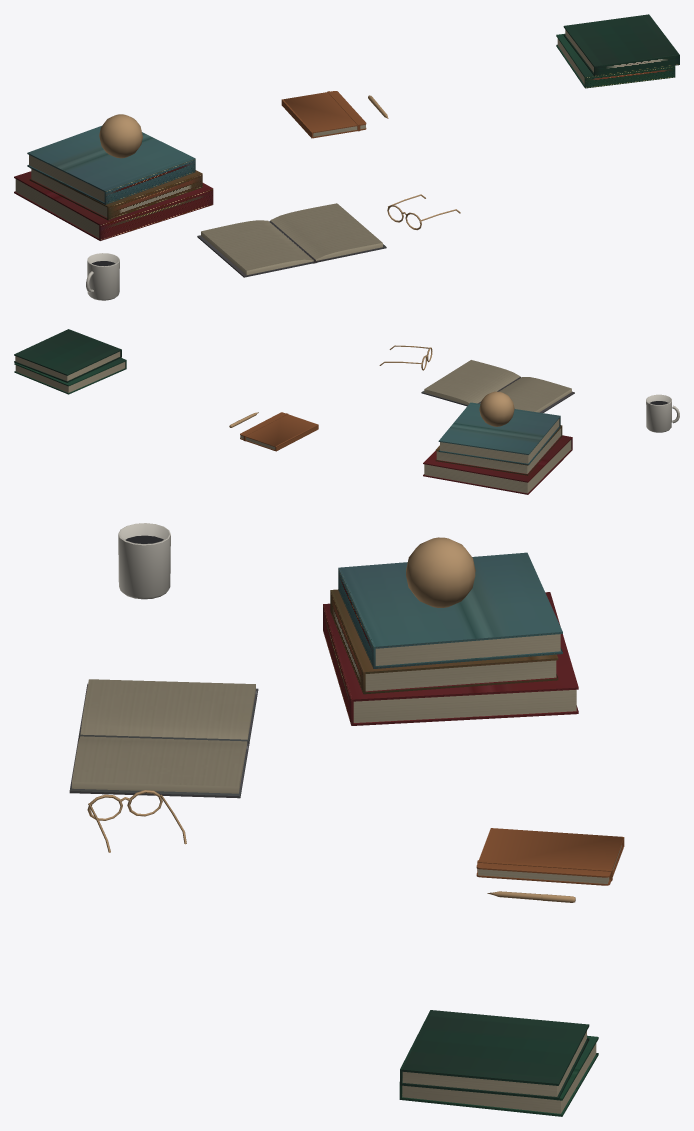
Rendered from decor_c_vignette_table.gltf.
3 renders of one model, top to bottom at view 1: azimuth 30°, elevation 25°; view 2: azimuth 150°, elevation 25°; view 3: azimuth 270°, elevation 25°, orthographic. The views are drawn at different scales.
Parts seen in each view (by area): view 1: DecorC_VignetteTable_Book04_Spines_NoCollide, DecorC_VignetteTable_Book03_Spines_NoCollide, DecorC_VignetteTable_Book06_Spines_NoCollide, DecorC_VignetteTable_Book01_Spines_NoCollide, DecorC_VignetteTable_Book02_Spines_NoCollide, DecorC_VignetteTable_Notebook01_Cognac_NoCollide, DecorC_VignetteTable_Book05_Spines_NoCollide, DecorC_VignetteTable_Ornament01_Bronze_NoCollide, DecorC_VignetteTable_Mug01_Glaze_NoCollide; view 2: DecorC_VignetteTable_Book03_Spines_NoCollide, DecorC_VignetteTable_Book04_Spines_NoCollide, DecorC_VignetteTable_Book06_Spines_NoCollide, DecorC_VignetteTable_Book01_Spines_NoCollide, DecorC_VignetteTable_Notebook01_Cognac_NoCollide, DecorC_VignetteTable_Book02_Spines_NoCollide, DecorC_VignetteTable_Book05_Spines_NoCollide, DecorC_VignetteTable_Ornament01_Bronze_NoCollide, DecorC_VignetteTable_Mug01_Glaze_NoCollide, DecorC_VignetteTable_Spectacles01_Bronze_NoCollide; view 3: DecorC_VignetteTable_Book04_Spines_NoCollide, DecorC_VignetteTable_Book03_Spines_NoCollide, DecorC_VignetteTable_Book06_Spines_NoCollide, DecorC_VignetteTable_Book01_Spines_NoCollide, DecorC_VignetteTable_Book02_Spines_NoCollide, DecorC_VignetteTable_Notebook01_Cognac_NoCollide, DecorC_VignetteTable_Ornament01_Bronze_NoCollide, DecorC_VignetteTable_Book05_Spines_NoCollide, DecorC_VignetteTable_Mug01_Glaze_NoCollide, DecorC_VignetteTable_Notebook01_Spines_NoCollide, DecorC_VignetteTable_Spectacles01_Bronze_NoCollide.
Boxes of the visible parts, x1=… form: DecorC_VignetteTable_Book04_Spines_NoCollide: x1=197, y1=203, x2=386, y2=277; DecorC_VignetteTable_Book03_Spines_NoCollide: x1=27, y1=126, x2=195, y2=204; DecorC_VignetteTable_Book06_Spines_NoCollide: x1=563, y1=14, x2=679, y2=76; DecorC_VignetteTable_Book01_Spines_NoCollide: x1=14, y1=171, x2=213, y2=240; DecorC_VignetteTable_Book02_Spines_NoCollide: x1=29, y1=168, x2=202, y2=220; DecorC_VignetteTable_Notebook01_Cognac_NoCollide: x1=281, y1=91, x2=366, y2=138; DecorC_VignetteTable_Book05_Spines_NoCollide: x1=556, y1=33, x2=675, y2=88; DecorC_VignetteTable_Ornament01_Bronze_NoCollide: x1=99, y1=114, x2=142, y2=158; DecorC_VignetteTable_Mug01_Glaze_NoCollide: x1=86, y1=253, x2=119, y2=300; DecorC_VignetteTable_Book03_Spines_NoCollide: x1=438, y1=402, x2=560, y2=465; DecorC_VignetteTable_Book04_Spines_NoCollide: x1=421, y1=360, x2=574, y2=412; DecorC_VignetteTable_Book06_Spines_NoCollide: x1=14, y1=329, x2=121, y2=382; DecorC_VignetteTable_Book01_Spines_NoCollide: x1=423, y1=435, x2=572, y2=494; DecorC_VignetteTable_Notebook01_Cognac_NoCollide: x1=240, y1=412, x2=318, y2=451; DecorC_VignetteTable_Book02_Spines_NoCollide: x1=435, y1=425, x2=562, y2=475; DecorC_VignetteTable_Book05_Spines_NoCollide: x1=14, y1=358, x2=126, y2=394; DecorC_VignetteTable_Ornament01_Bronze_NoCollide: x1=479, y1=391, x2=514, y2=426; DecorC_VignetteTable_Mug01_Glaze_NoCollide: x1=646, y1=394, x2=679, y2=432; DecorC_VignetteTable_Spectacles01_Bronze_NoCollide: x1=379, y1=345, x2=432, y2=370; DecorC_VignetteTable_Book04_Spines_NoCollide: x1=69, y1=679, x2=258, y2=798; DecorC_VignetteTable_Book03_Spines_NoCollide: x1=338, y1=552, x2=562, y2=668; DecorC_VignetteTable_Book06_Spines_NoCollide: x1=400, y1=1010, x2=589, y2=1099; DecorC_VignetteTable_Book01_Spines_NoCollide: x1=323, y1=592, x2=578, y2=725; DecorC_VignetteTable_Book02_Spines_NoCollide: x1=330, y1=589, x2=558, y2=694; DecorC_VignetteTable_Notebook01_Cognac_NoCollide: x1=476, y1=828, x2=624, y2=885; DecorC_VignetteTable_Ornament01_Bronze_NoCollide: x1=406, y1=537, x2=475, y2=607; DecorC_VignetteTable_Book05_Spines_NoCollide: x1=399, y1=1035, x2=598, y2=1116; DecorC_VignetteTable_Mug01_Glaze_NoCollide: x1=118, y1=523, x2=170, y2=599; DecorC_VignetteTable_Notebook01_Spines_NoCollide: x1=478, y1=845, x2=621, y2=883; DecorC_VignetteTable_Spectacles01_Bronze_NoCollide: x1=87, y1=790, x2=186, y2=852.
Size of the model in its own units: 2.01 by 0.2323 by 0.8618.
Materials: 5 (1 with a texture image).
